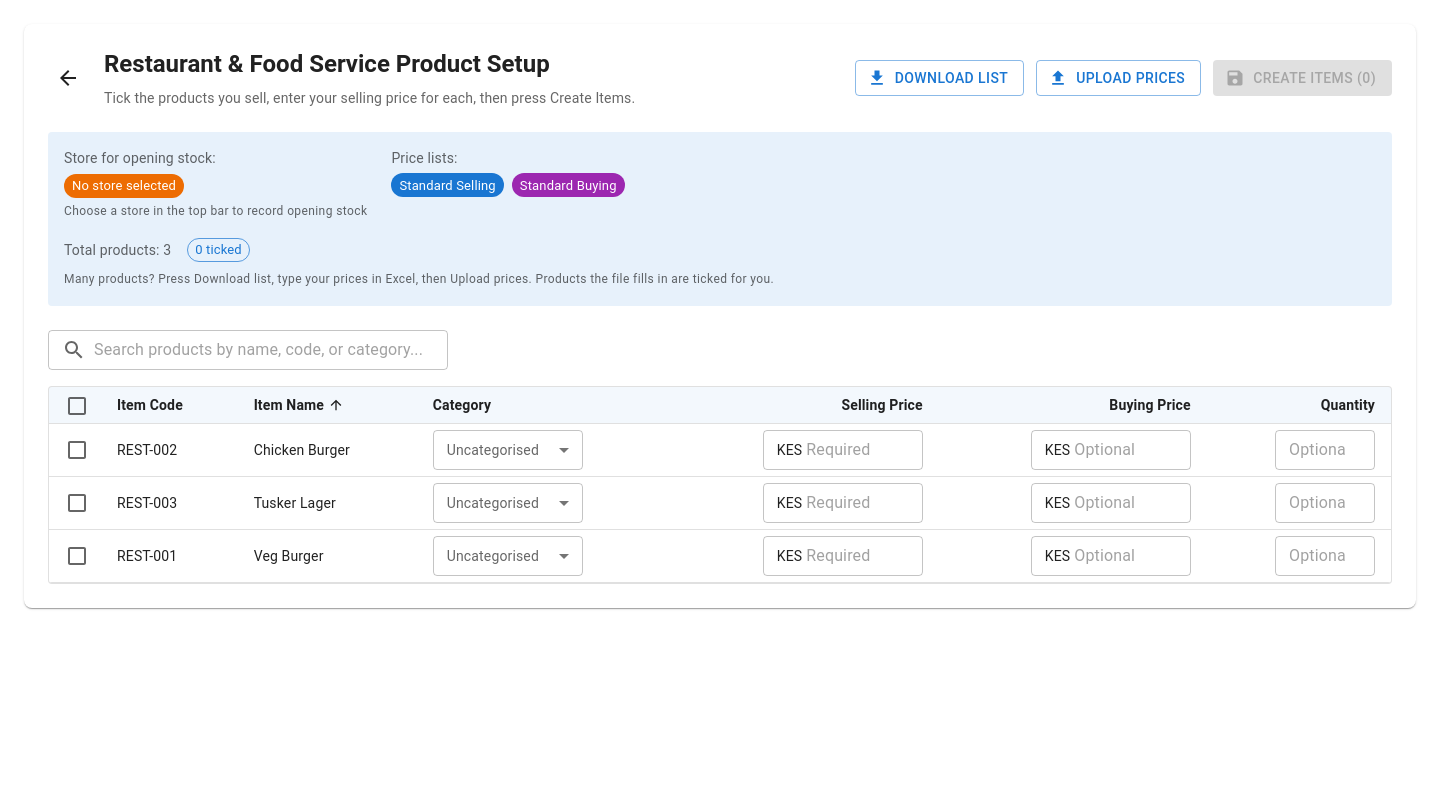
Test: Starter products page › asks for a store when stock is entered but none is chosen
Check: the text "Veg Burger" is shown, box [238,529,417,582]
Click the checkbox named "Tick Tusker Lager".
click(77, 503)  # box [65,491,89,515]
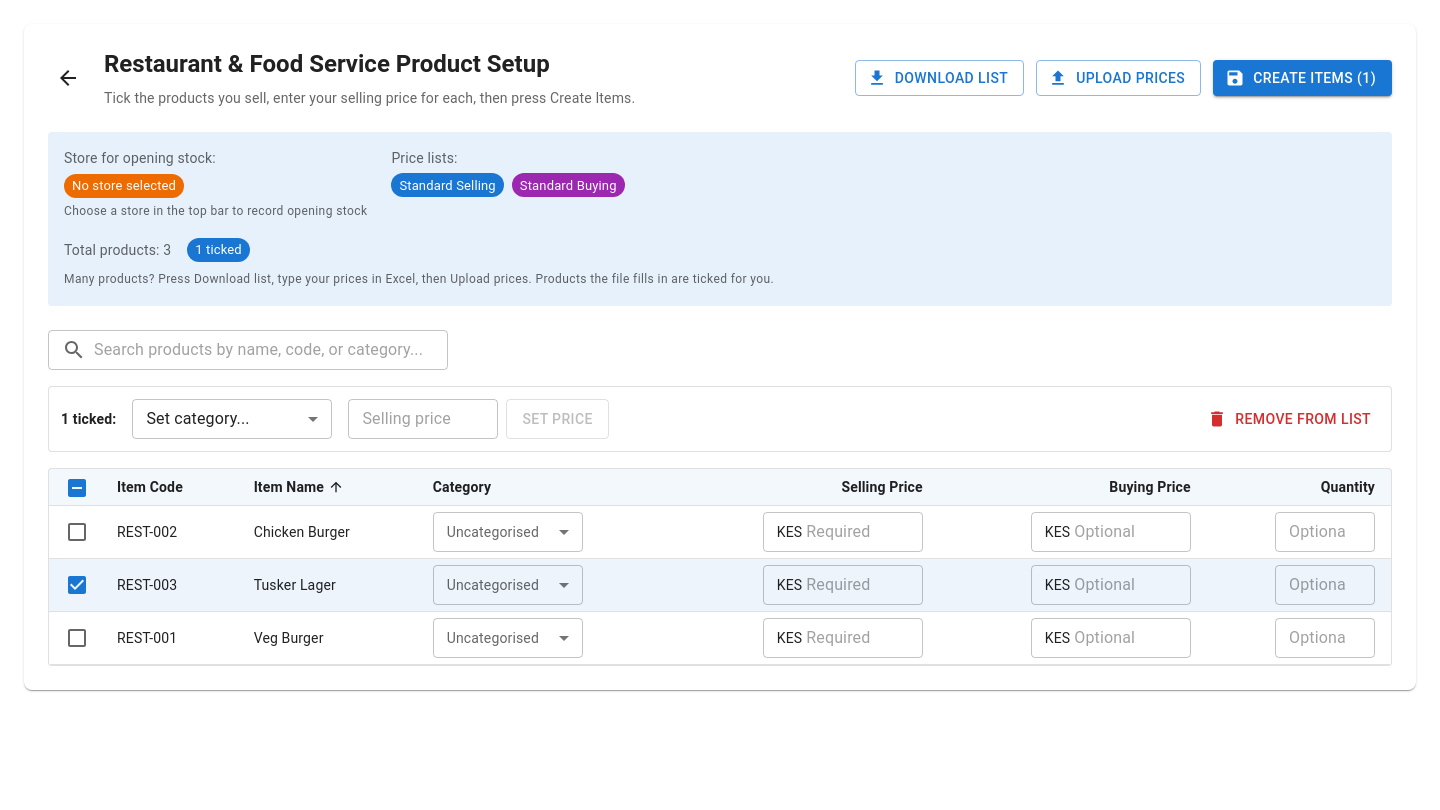
Type "250" into the number field named "Selling price for Tusker Lager".
click(865, 585); type("250")  # box [806,565,923,605]
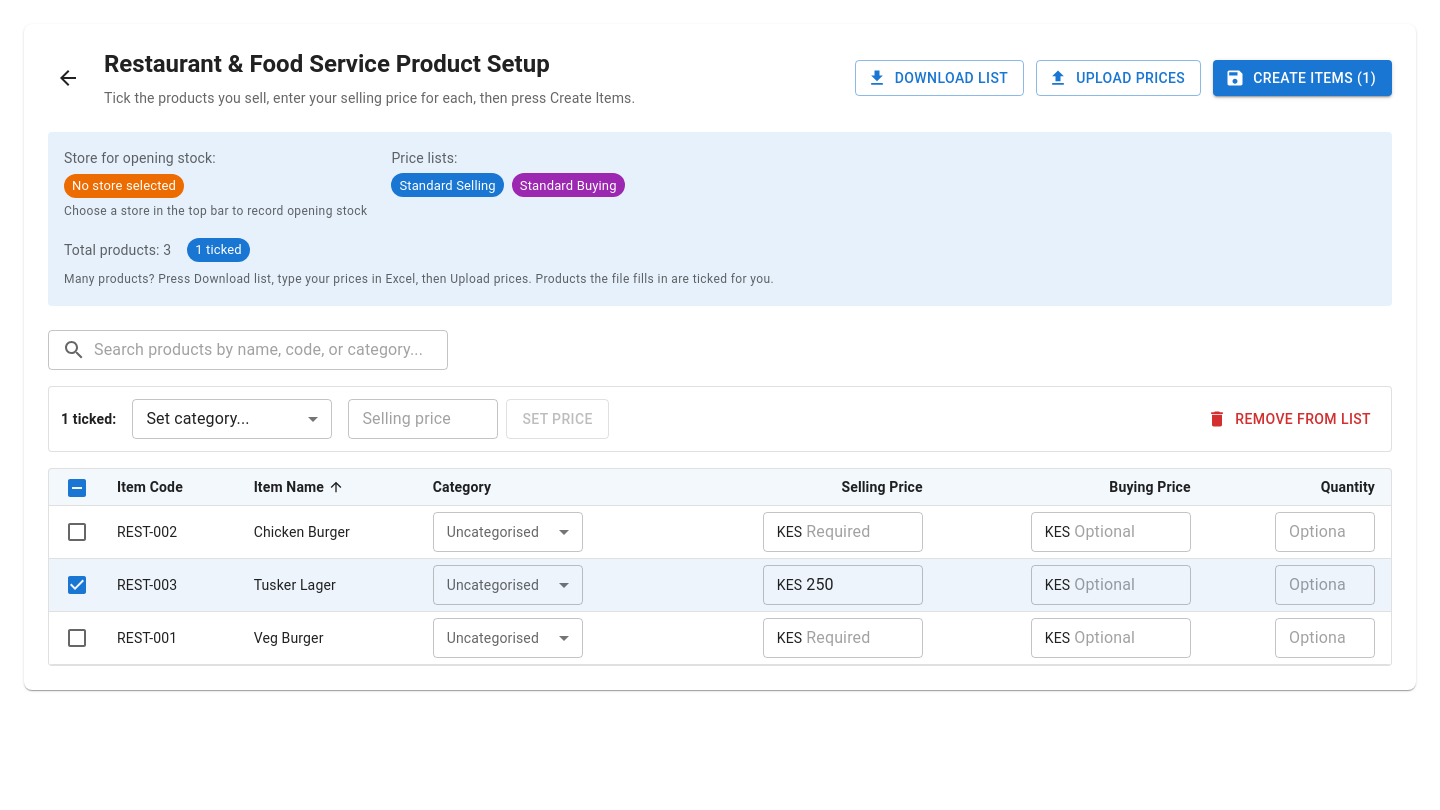
Type "24" into the number field named "Quantity for Tusker Lager".
click(1325, 585); type("24")  # box [1275,565,1375,605]
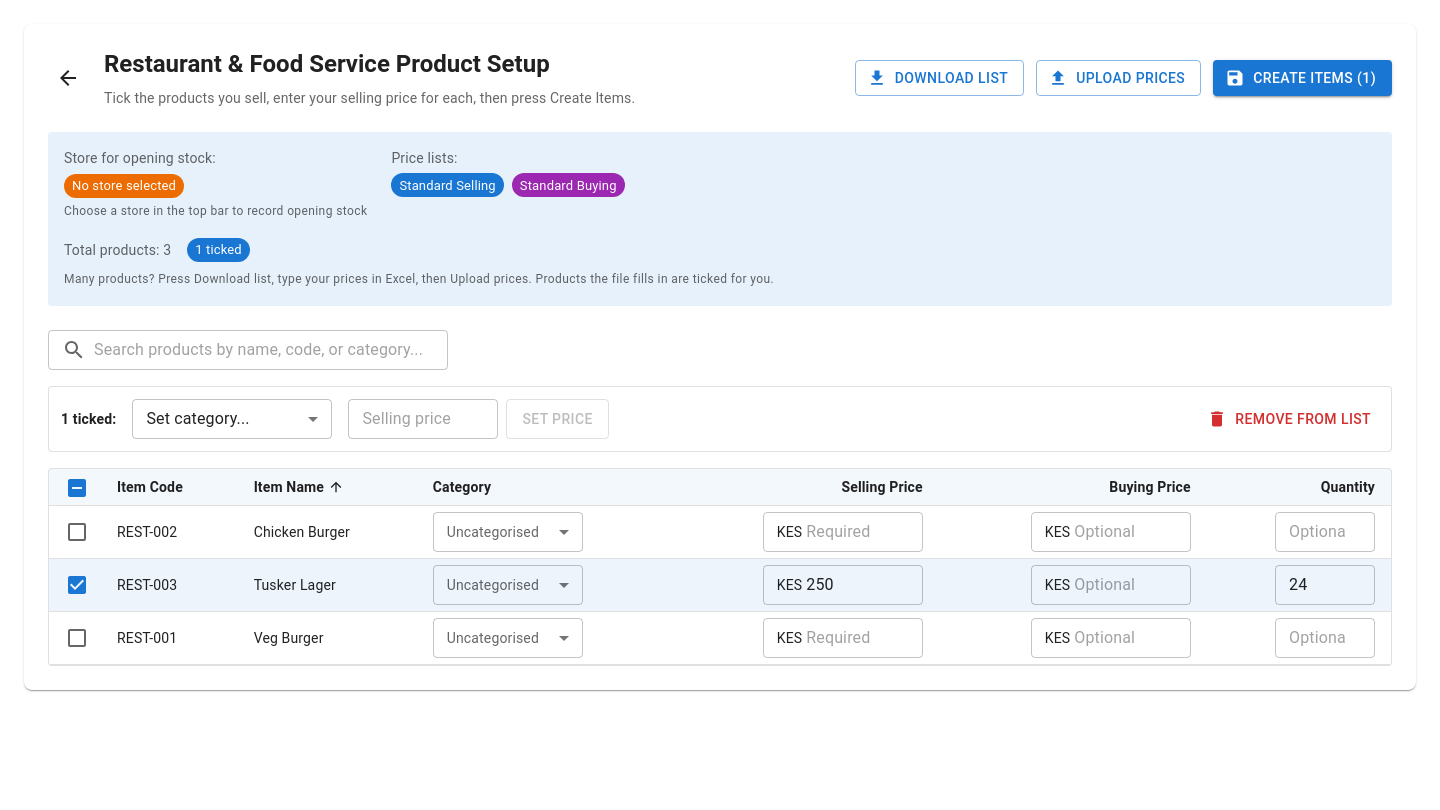
Click the button "Create Items (1)".
click(1303, 78)  # box [1213,60,1392,96]
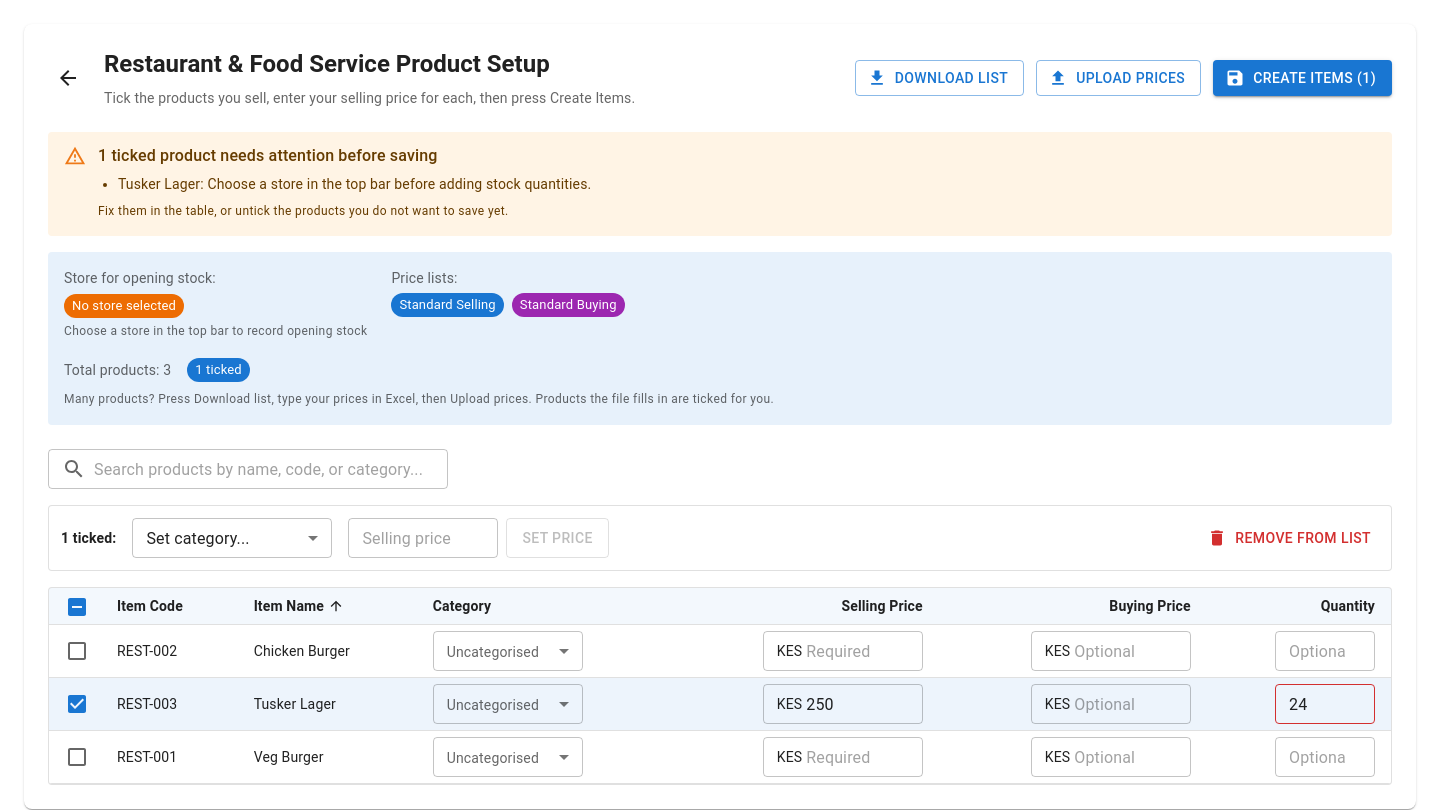
Check: the list item "Tusker Lager: Choose a store in the top bar before adding stock quantities." is shown, box [118,174,591,194]
